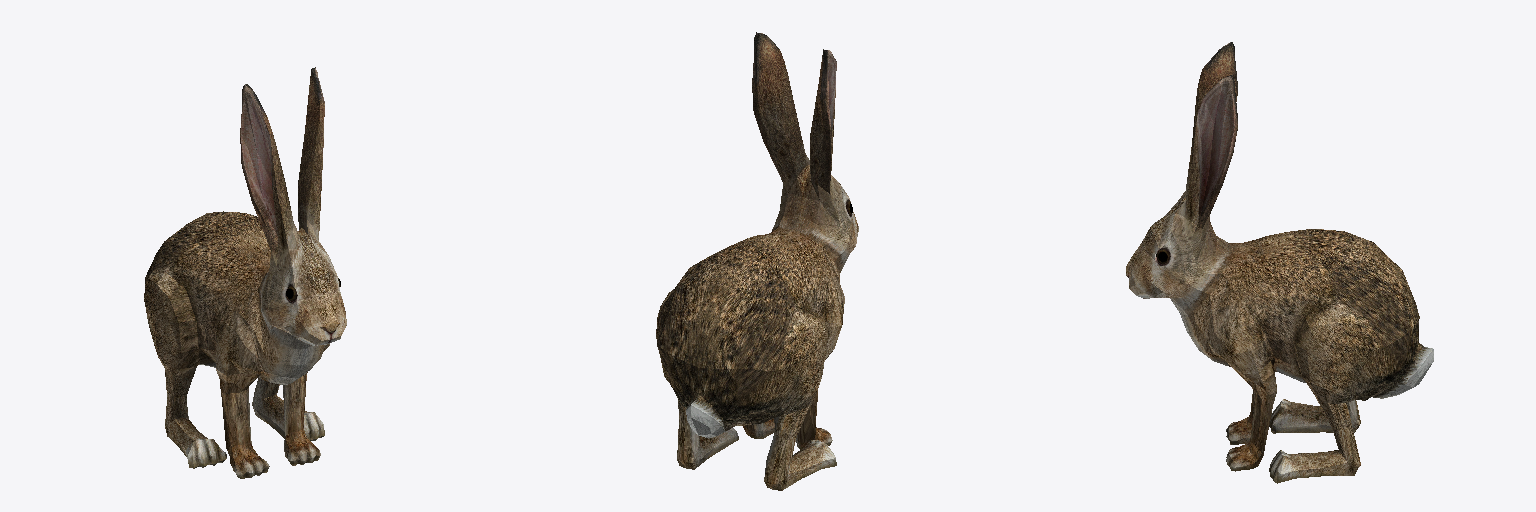
3 renders of one model, left to right at view 1: azimuth 30°, elevation 25°; view 2: azimuth 150°, elevation 25°; view 3: azimuth 270°, elevation 25°, orthographic.
Visible parts, largest first — view 1: default; view 2: default; view 3: default.
Part boxes in pixels (x1,y1,x2,y2): default: (144,67,346,478); default: (656,32,858,490); default: (1126,42,1433,483).
Size of the model in its own units: 17.93 by 45.29 by 32.03.
1 materials, 1 textured.